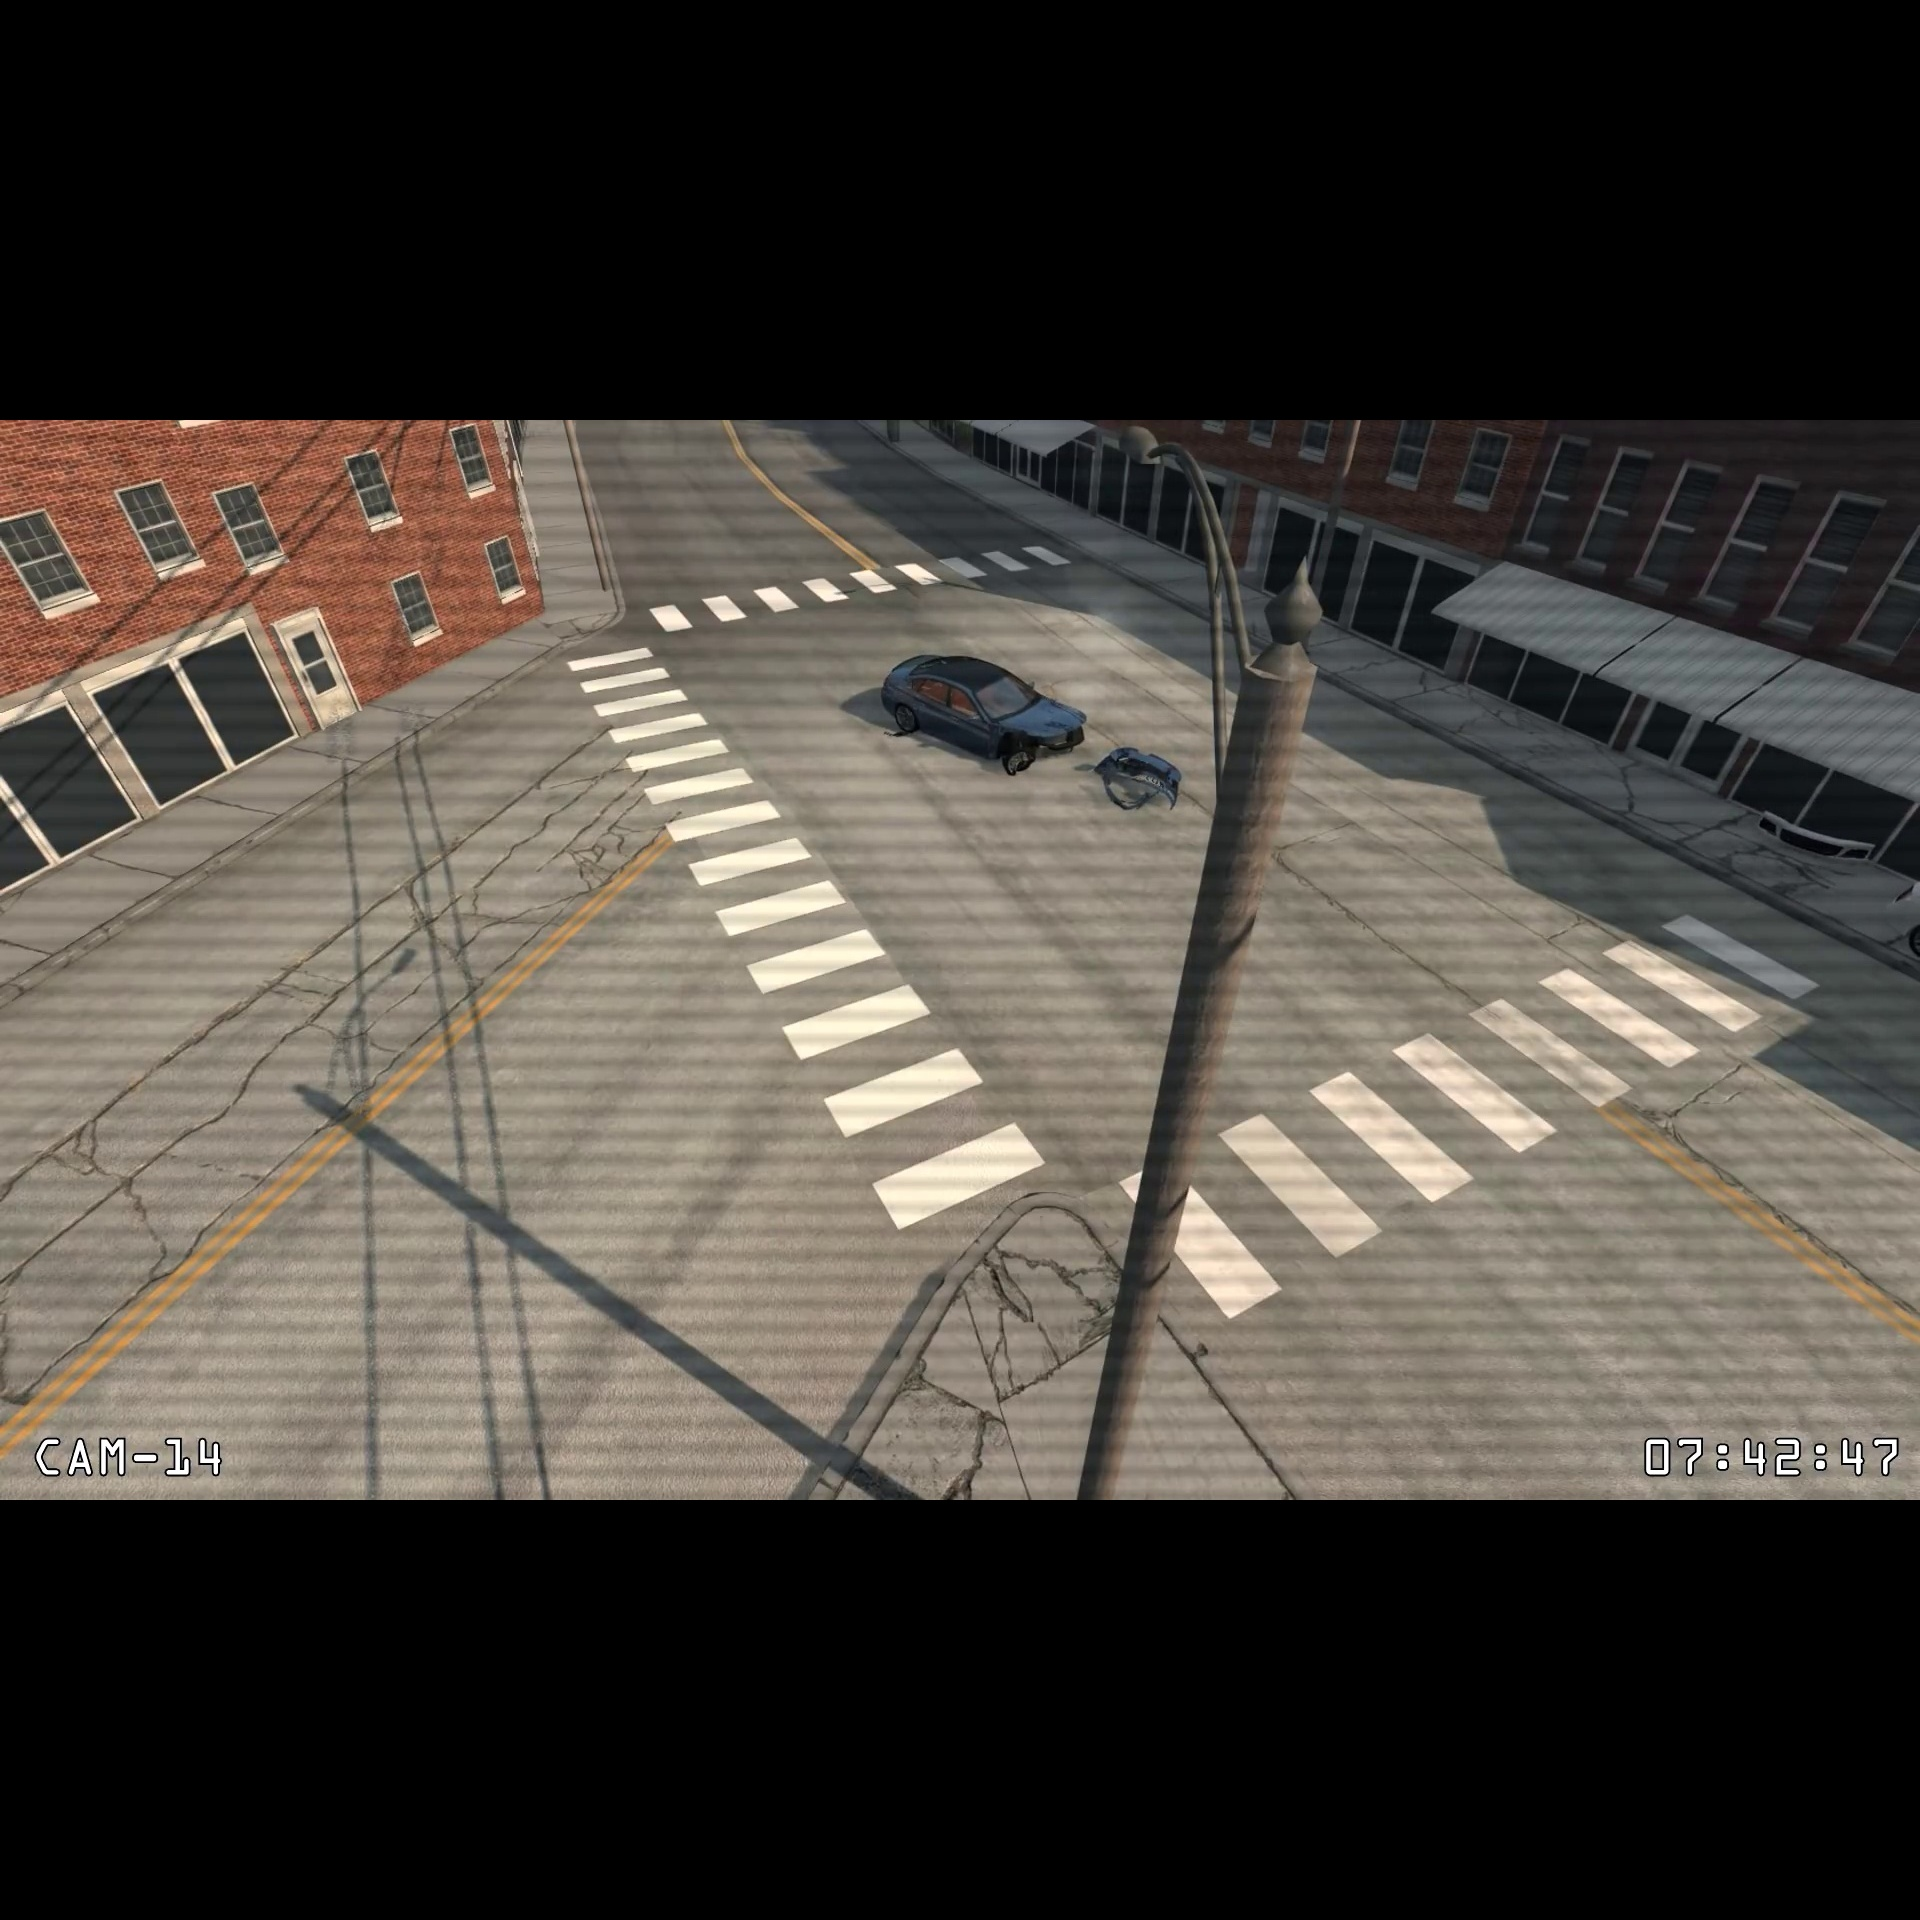vehicle: (870, 642, 1094, 782)
